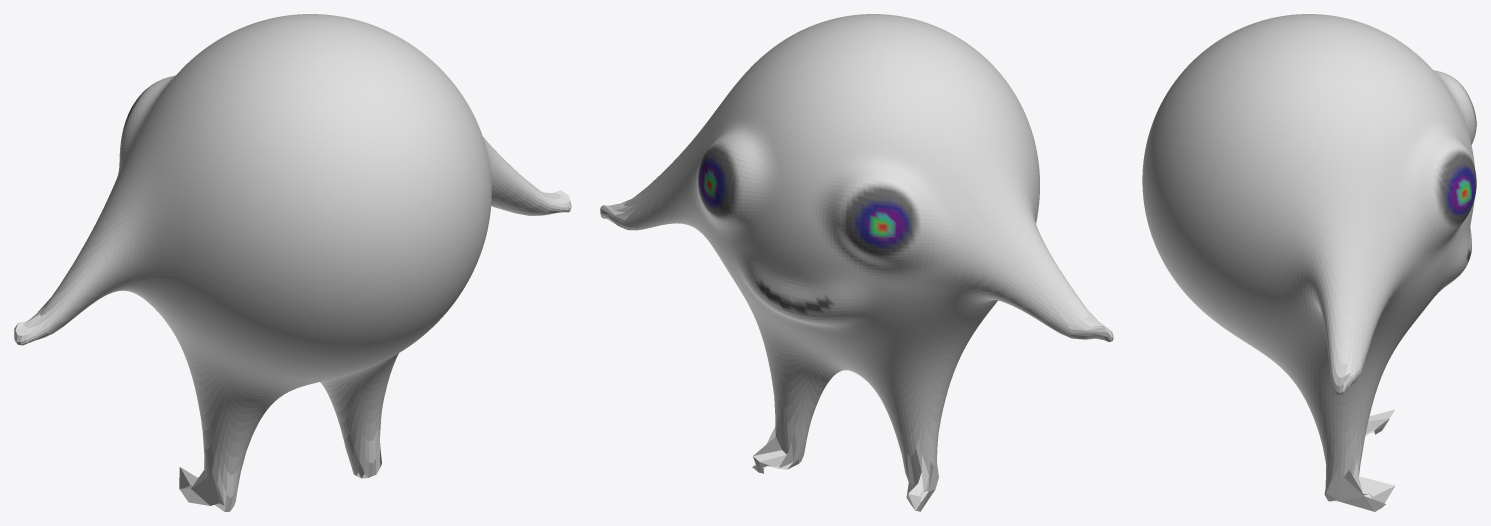
3 views of the same model, side by side, from view 1: azimuth 30°, elevation 25°; view 2: azimuth 150°, elevation 25°; view 3: azimuth 270°, elevation 25° (orthographic). The views are drawn at different scales.
Visible parts, largest first — view 1: Quad Sphere; view 2: Quad Sphere; view 3: Quad Sphere.
Part boxes in pixels (x1,y1,x2,y2): Quad Sphere: (14,14,571,511); Quad Sphere: (600,14,1113,511); Quad Sphere: (1142,14,1476,511).
Bounding box in the file's own units: 460 × 377 × 258.
